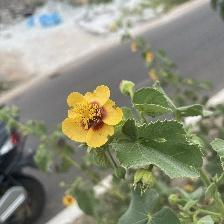indian mallow: (62, 84, 127, 153)
